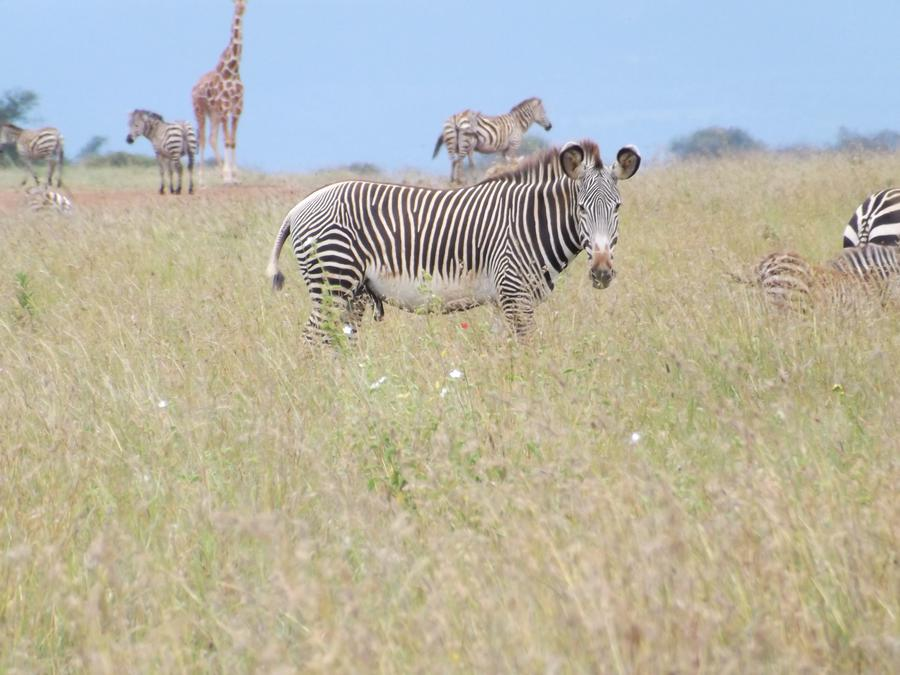zebra_grevys: (296, 183, 538, 303)
